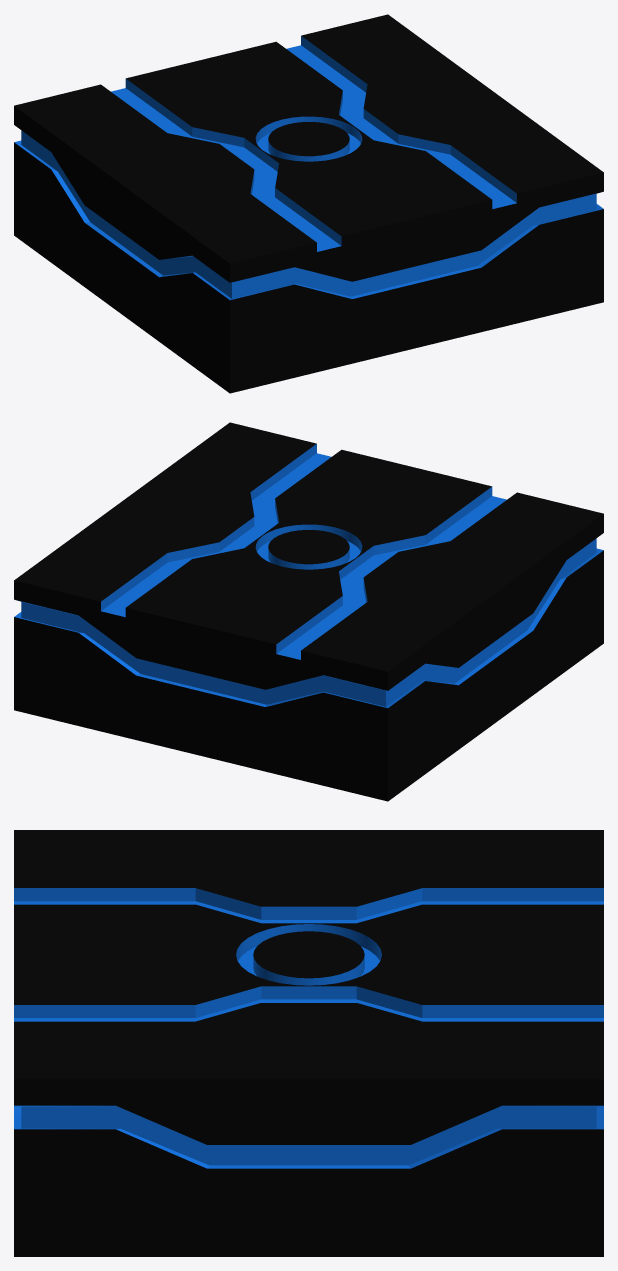
Rendered from Pedestal.fbx.
3 views of the same model, one above another, from view 1: azimuth 30°, elevation 25°; view 2: azimuth 150°, elevation 25°; view 3: azimuth 270°, elevation 25° (orthographic). The views are drawn at different scales.
Parts seen in each view (by area): view 1: Pedestal; view 2: Pedestal; view 3: Pedestal.
Part boxes in pixels (x1=…): Pedestal: x1=14, y1=14, x2=603, y2=393; Pedestal: x1=14, y1=422, x2=603, y2=801; Pedestal: x1=14, y1=830, x2=603, y2=1256.
Size of the model in its own units: 2 by 0.6634 by 2.
